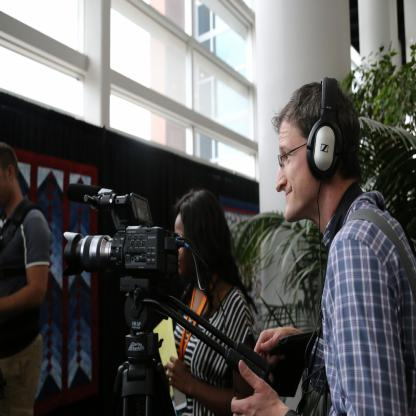Camera: (65, 190, 215, 358)
